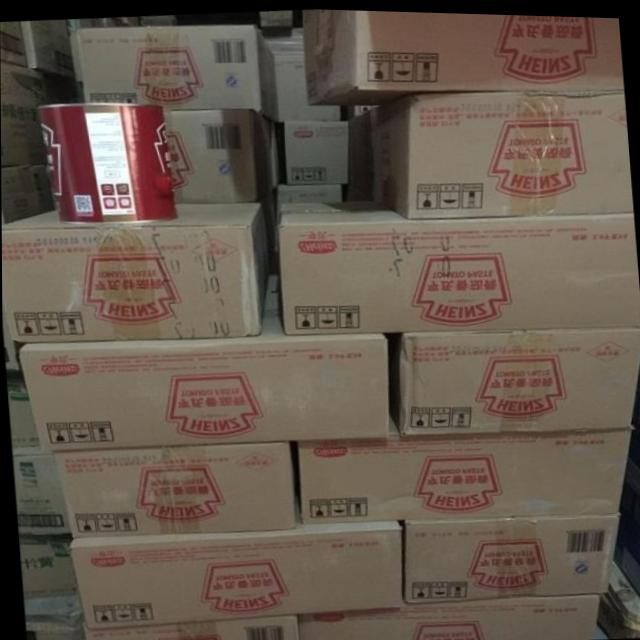box: (18, 274, 387, 449), (275, 197, 640, 332), (1, 201, 268, 342), (68, 518, 402, 628), (370, 87, 633, 216), (298, 425, 632, 523), (300, 7, 624, 104), (399, 323, 640, 433), (52, 439, 296, 538), (69, 23, 280, 118), (404, 511, 616, 600), (295, 591, 603, 640), (163, 109, 274, 201), (85, 613, 299, 640), (0, 21, 25, 66)
